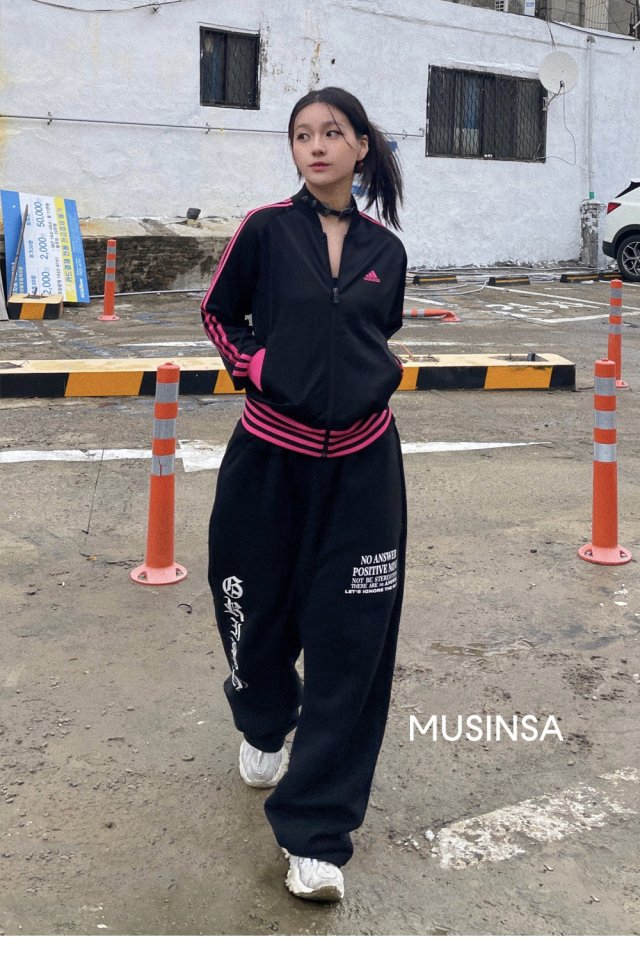Outer: (195, 189, 405, 455)
Shoes: (235, 735, 346, 902)
Training pants: (206, 406, 414, 867)
